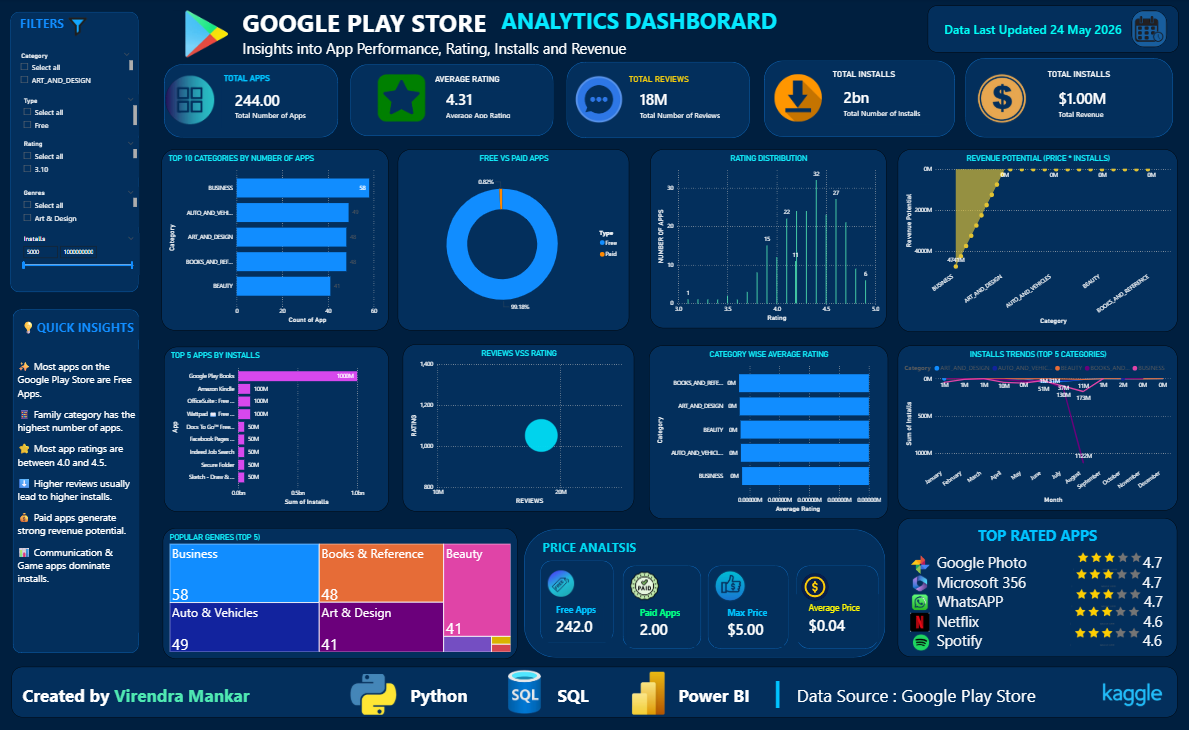

What the dashboard file says about the page in this screenshot:
{"tool":"powerbi","page":{"name":"Page 1","canvas":[2600,1600],"ordinal":0},"visuals":[{"type":"shape","box":[25,30,280,611.7],"z":0},{"type":"shape","box":[30,680,275,750],"z":1000},{"type":"image","box":[378,28,148,102],"z":2000},{"type":"textbox","box":[526,10,860,124],"z":3000},{"type":"textbox","box":[1091.7,10,631.7,76.7],"z":4000},{"type":"clusteredBarChart","title":"TOP 10 CATEGORIES BY NUMBER OF APPS","fields":{"Category":["CLEAND_GOOGLE_STORE.Category"],"Y":["CountNonNull(apps.App)"]},"box":[355,330,495,395],"z":5000},{"type":"donutChart","title":"FREE VS PAID APPS","fields":{"Category":["apps.Type"],"Y":["CountNonNull(apps.App)"]},"box":[870,330,505,395],"z":6000},{"type":"clusteredColumnChart","title":"RATING DISTRIBUTION","fields":{"Category":["apps.Rating"],"Y":["CountNonNull(apps.App)"]},"box":[1420,330,515,390],"z":7000},{"type":"clusteredBarChart","title":"TOP 5 APPS BY INSTALLS","fields":{"Category":["CLEAND_GOOGLE_STORE.App"],"Y":["Sum(CLEAND_GOOGLE_STORE.Installs)"]},"box":[360,760,490,360],"z":8000},{"type":"scatterChart","title":"REVIEWS VSS RATING","fields":{"Y":["Sum(CLEAND_GOOGLE_STORE.Rating)"],"Size":["Sum(apps.Installs)"],"X":["Sum(apps.Reviews)"]},"box":[880,755,505,365],"z":9000},{"type":"lineChart","title":"REVENUE POTENTIAL (PRICE * INSTALLS)","fields":{"Category":["CLEAND_GOOGLE_STORE.Category"],"Y":["apps.Revenue Potential"]},"box":[1960.5,329.9,610.8,398.1],"z":10000},{"type":"treemap","title":"POPULAR GENRES (TOP 5)","fields":{"Group":["apps.Genres"],"Values":["CountNonNull(apps.App)"]},"box":[357.1,1157.1,773.8,285.7],"z":11000},{"type":"shape","box":[1144,1160,788,280],"z":12000},{"type":"textbox","box":[1180,1175,225,50],"z":13000},{"type":"shape","box":[360,144,380,156],"z":14000},{"type":"shape","box":[1670,136.7,416.7,166.7],"z":15000},{"type":"shape","box":[1236.7,140,400,166.7],"z":16000},{"type":"shape","box":[766.7,143.3,443.3,156.7],"z":17000},{"type":"image","box":[372,170,114,106],"z":18000},{"type":"image","box":[790,166,120,104],"z":19000},{"type":"image","box":[1256.7,170,103.3,106.7],"z":20000},{"type":"image","box":[1680,166.7,126.7,103.3],"z":21000},{"type":"cardVisual","title":"TOTAL APPS","fields":{"Data":["apps.Total Apps"]},"box":[486.7,163.3,223.3,120],"z":22000},{"type":"cardVisual","title":"AVERAGE RATING","fields":{"Data":["apps.Average Rating"]},"box":[922,166,200,114],"z":23000},{"type":"cardVisual","title":"TOTAL REVIEWS","fields":{"Data":["apps.Total Reviews"]},"box":[1370,166.7,253.3,113.3],"z":24000},{"type":"cardVisual","title":"TOTAL INSTALLS","fields":{"Data":["apps.Total Installs"]},"box":[1813.3,156.7,233.3,126.7],"z":25000},{"type":"shape","box":[1180,1227.5,160,180],"z":26000},{"type":"image","box":[1197.5,1245,57.5,62.5],"z":27000},{"type":"cardVisual","fields":{"Data":["apps.Free Apps"]},"box":[1185,1307.5,150,97.5],"z":28000},{"type":"shape","box":[1360.5,1236.8,171.1,181.6],"z":29000},{"type":"shape","box":[1547.4,1236.8,176.3,181.6],"z":30000},{"type":"shape","box":[1739.5,1236.8,178.9,181.6],"z":31000},{"type":"cardVisual","fields":{"Data":["apps.Paid Apps"]},"box":[1367.5,1307.5,152.5,107.5],"z":32000},{"type":"cardVisual","fields":{"Data":["apps.MAX PRICE"]},"box":[1560,1307.5,152.5,107.5],"z":33000},{"type":"cardVisual","fields":{"Data":["apps.Average Price"]},"box":[1737.5,1300,182.5,105],"z":34000},{"type":"image","box":[1377.5,1247.5,62.5,67.5],"z":35000},{"type":"image","box":[1740,1240,82.5,90],"z":36000},{"type":"image","box":[1560,1250,70,67.5],"z":37000},{"type":"slicer","fields":{"Values":["apps.Category"]},"box":[35,111.7,261.7,91.7],"z":38000},{"type":"slicer","fields":{"Values":["apps.Type"]},"box":[40,210,265,90],"z":39000},{"type":"slicer","fields":{"Values":["apps.Rating"]},"box":[40,306.7,265,86.7],"z":40000},{"type":"slicer","fields":{"Values":["apps.Genres"]},"box":[40,411.7,265,88.3],"z":41000},{"type":"slicer","fields":{"Values":["apps.Installs"]},"box":[40,513.3,265,90],"z":42000},{"type":"textbox","box":[40,32,118,50],"z":43000},{"type":"image","box":[144,32,54,60],"z":44000},{"type":"textbox","box":[35,765,270,618.3],"z":45000},{"type":"textbox","box":[40,695,265,50],"z":46000},{"type":"textbox","box":[26.7,1460,2543.3,110],"z":47000},{"type":"image","box":[763.3,1463.3,106.7,110],"z":48000},{"type":"image","box":[1096.7,1453.3,100,120],"z":49000},{"type":"image","box":[1363.3,1470,106.7,93.3],"z":50000},{"type":"clusteredBarChart","title":"CATEGORY WISE AVERAGE RATING","fields":{"Category":["apps.Category"],"Y":["apps.Average Rating"]},"box":[1417.9,757.1,521.4,378.6],"z":51000},{"type":"lineChart","title":"INSTALLS TRENDS  (TOP 5 CATEGORIES)","fields":{"Category":["apps.Last Updated.Variation.Date Hierarchy.Month"],"Y":["Sum(apps.Installs)"],"Series":["apps.Category"]},"box":[1960,756.7,610,360],"z":52000},{"type":"shape","box":[2106.7,130,453.3,173.3],"z":53000},{"type":"cardVisual","title":"TOTAL INSTALLS","fields":{"Data":["apps.Total Revenue"]},"box":[2283.3,156.7,230,130],"z":54000},{"type":"image","box":[2106.7,140,160,160],"z":55000},{"type":"textbox","box":[1961.3,1135.5,609.7,303.2],"z":56000},{"type":"image","box":[2342.9,1192.9,160.7,57.1],"z":57000},{"type":"image","box":[2339.3,1225,160.7,64.3],"z":58000},{"type":"image","box":[2339.3,1267.9,160.7,64.3],"z":59000},{"type":"image","box":[2335.7,1307.1,160.7,64.3],"z":60000},{"type":"image","box":[2335.7,1346.4,160.7,75],"z":61000},{"type":"image","box":[1981.4,1215.7,54.3,40],"z":62000},{"type":"image","box":[1987.1,1258.6,42.9,34.3],"z":63000},{"type":"image","box":[1977.1,1292.9,64.3,51.4],"z":64000},{"type":"image","box":[1988.6,1338.6,41.4,45.7],"z":65000},{"type":"image","box":[1990,1388.6,41.4,35.7],"z":66000},{"type":"image","box":[2400,1475,146.4,100],"z":67000},{"type":"cardVisual","fields":{"Data":["apps.Data Last Updated"]},"box":[2025,15,547.5,102.5],"z":68000},{"type":"image","box":[2470,27.5,77.5,80],"z":69000}]}

Visuals, with their boxes in screenshot pixels (x1, y1, x2, y2), scaled from the page's 2600x1600 canvas onto the 1189x730 screenshot:
shape: x1=11, y1=14, x2=139, y2=293
shape: x1=14, y1=310, x2=139, y2=652
image: x1=173, y1=13, x2=241, y2=59
textbox: x1=241, y1=5, x2=634, y2=61
textbox: x1=499, y1=5, x2=788, y2=40
"TOP 10 CATEGORIES BY NUMBER OF APPS" clusteredBarChart: x1=162, y1=151, x2=389, y2=331
"FREE VS PAID APPS" donutChart: x1=398, y1=151, x2=629, y2=331
"RATING DISTRIBUTION" clusteredColumnChart: x1=649, y1=151, x2=885, y2=328
"TOP 5 APPS BY INSTALLS" clusteredBarChart: x1=165, y1=347, x2=389, y2=511
"REVIEWS VSS RATING" scatterChart: x1=402, y1=344, x2=633, y2=511
"REVENUE POTENTIAL (PRICE * INSTALLS)" lineChart: x1=897, y1=151, x2=1176, y2=332
"POPULAR GENRES (TOP 5)" treemap: x1=163, y1=528, x2=517, y2=658
shape: x1=523, y1=529, x2=884, y2=657
textbox: x1=540, y1=536, x2=643, y2=559
shape: x1=165, y1=66, x2=338, y2=137
shape: x1=764, y1=62, x2=954, y2=138
shape: x1=566, y1=64, x2=748, y2=140
shape: x1=351, y1=65, x2=553, y2=137
image: x1=170, y1=78, x2=222, y2=126
image: x1=361, y1=76, x2=416, y2=123
image: x1=575, y1=78, x2=622, y2=126
image: x1=768, y1=76, x2=826, y2=123
"TOTAL APPS" cardVisual: x1=223, y1=75, x2=325, y2=129
"AVERAGE RATING" cardVisual: x1=422, y1=76, x2=513, y2=128
"TOTAL REVIEWS" cardVisual: x1=627, y1=76, x2=742, y2=128
"TOTAL INSTALLS" cardVisual: x1=829, y1=71, x2=936, y2=129
shape: x1=540, y1=560, x2=613, y2=642
image: x1=548, y1=568, x2=574, y2=597
cardVisual - apps.Free Apps: x1=542, y1=597, x2=611, y2=641
shape: x1=622, y1=564, x2=700, y2=647
shape: x1=708, y1=564, x2=788, y2=647
shape: x1=795, y1=564, x2=877, y2=647
cardVisual - apps.Paid Apps: x1=625, y1=597, x2=695, y2=646
cardVisual - apps.MAX PRICE: x1=713, y1=597, x2=783, y2=646
cardVisual - apps.Average Price: x1=795, y1=593, x2=878, y2=641
image: x1=630, y1=569, x2=659, y2=600
image: x1=796, y1=566, x2=833, y2=607
image: x1=713, y1=570, x2=745, y2=601
slicer - apps.Category: x1=16, y1=51, x2=136, y2=93
slicer - apps.Type: x1=18, y1=96, x2=139, y2=137
slicer - apps.Rating: x1=18, y1=140, x2=139, y2=179
slicer - apps.Genres: x1=18, y1=188, x2=139, y2=228
slicer - apps.Installs: x1=18, y1=234, x2=139, y2=275
textbox: x1=18, y1=15, x2=72, y2=37
image: x1=66, y1=15, x2=91, y2=42
textbox: x1=16, y1=349, x2=139, y2=631
textbox: x1=18, y1=317, x2=139, y2=340
textbox: x1=12, y1=666, x2=1175, y2=716
image: x1=349, y1=668, x2=398, y2=718
image: x1=502, y1=663, x2=547, y2=718
image: x1=623, y1=671, x2=672, y2=713
"CATEGORY WISE AVERAGE RATING" clusteredBarChart: x1=648, y1=345, x2=887, y2=518
"INSTALLS TRENDS  (TOP 5 CATEGORIES)" lineChart: x1=896, y1=345, x2=1175, y2=509
shape: x1=963, y1=59, x2=1171, y2=138
"TOTAL INSTALLS" cardVisual: x1=1044, y1=71, x2=1149, y2=131
image: x1=963, y1=64, x2=1037, y2=137
textbox: x1=897, y1=518, x2=1176, y2=656
image: x1=1071, y1=544, x2=1145, y2=570
image: x1=1070, y1=559, x2=1143, y2=588
image: x1=1070, y1=578, x2=1143, y2=608
image: x1=1068, y1=596, x2=1142, y2=626
image: x1=1068, y1=614, x2=1142, y2=649
image: x1=906, y1=555, x2=931, y2=573
image: x1=909, y1=574, x2=928, y2=590
image: x1=904, y1=590, x2=934, y2=613
image: x1=909, y1=611, x2=928, y2=632
image: x1=910, y1=634, x2=929, y2=650
image: x1=1098, y1=673, x2=1164, y2=719
cardVisual - apps.Data Last Updated: x1=926, y1=7, x2=1176, y2=54
image: x1=1130, y1=13, x2=1165, y2=49
